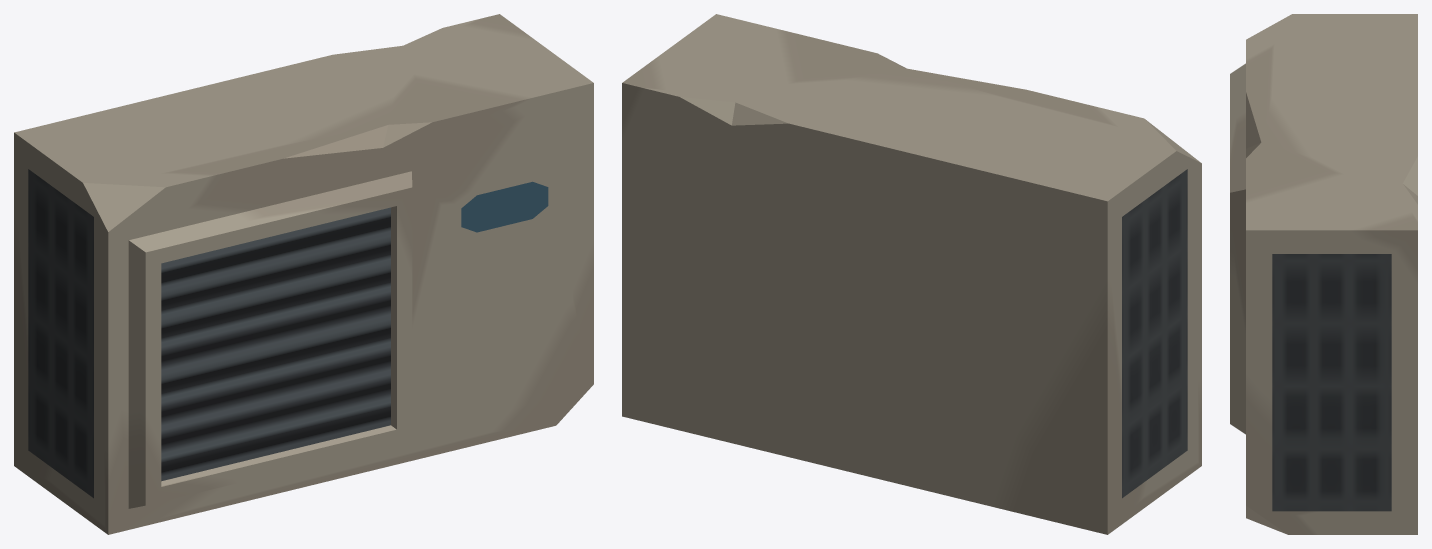
The model's file is SM_Prop_Airconditioner_01.fbx.
The picture shows the model from 3 angles, left to right: view 1: azimuth 30°, elevation 25°; view 2: azimuth 150°, elevation 25°; view 3: azimuth 270°, elevation 25°; orthographic projection. The views are drawn at different scales.
Visible parts, largest first — view 1: SM_Prop_Airconditioner_01; view 2: SM_Prop_Airconditioner_01; view 3: SM_Prop_Airconditioner_01.
Part boxes in pixels (bbox=[...]): SM_Prop_Airconditioner_01: bbox=[14, 14, 593, 534]; SM_Prop_Airconditioner_01: bbox=[622, 14, 1201, 534]; SM_Prop_Airconditioner_01: bbox=[1230, 14, 1417, 534].
Size of the model in its own units: 107 by 70.52 by 39.44.
